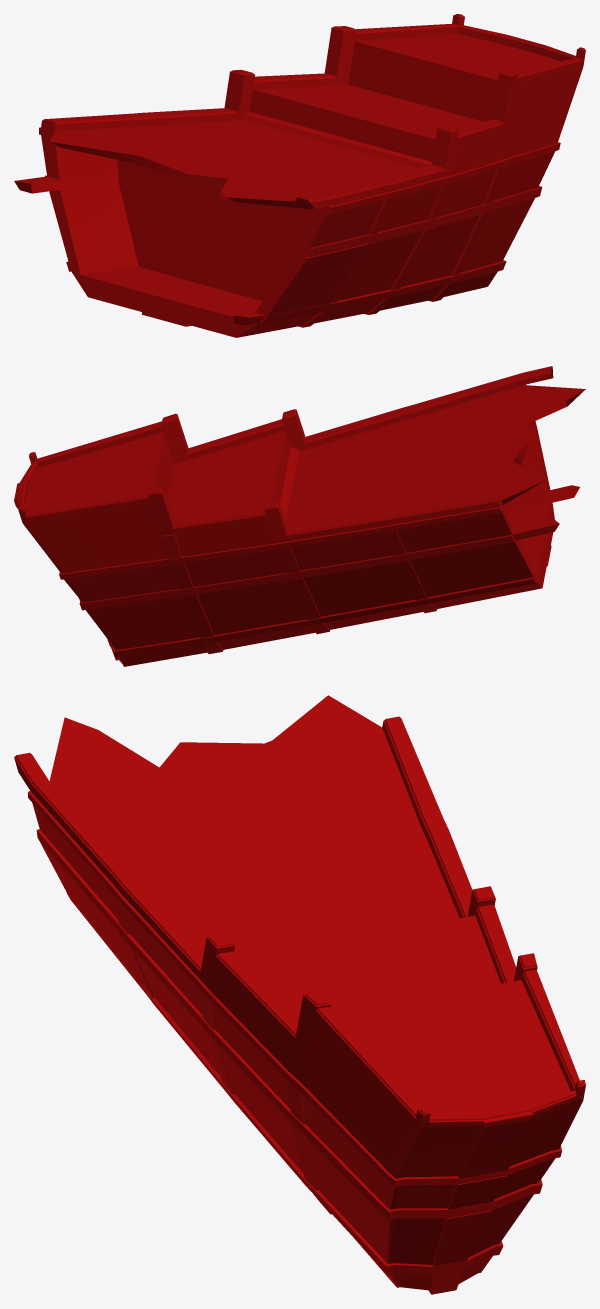
Rendered from BrokenBackShipMesh.fbx.
3 views of the same model, one above another, from view 1: azimuth 30°, elevation 25°; view 2: azimuth 150°, elevation 25°; view 3: azimuth 270°, elevation 25° (orthographic). The views are drawn at different scales.
Parts seen in each view (by area): view 1: pCube32; view 2: pCube32; view 3: pCube32.
Boxes of the visible parts, box(x1,y1,x2,y2) form: pCube32: box(14, 14, 585, 337); pCube32: box(14, 366, 585, 666); pCube32: box(14, 695, 585, 1294).
Size of the model in its own units: 863 by 408 by 608.
